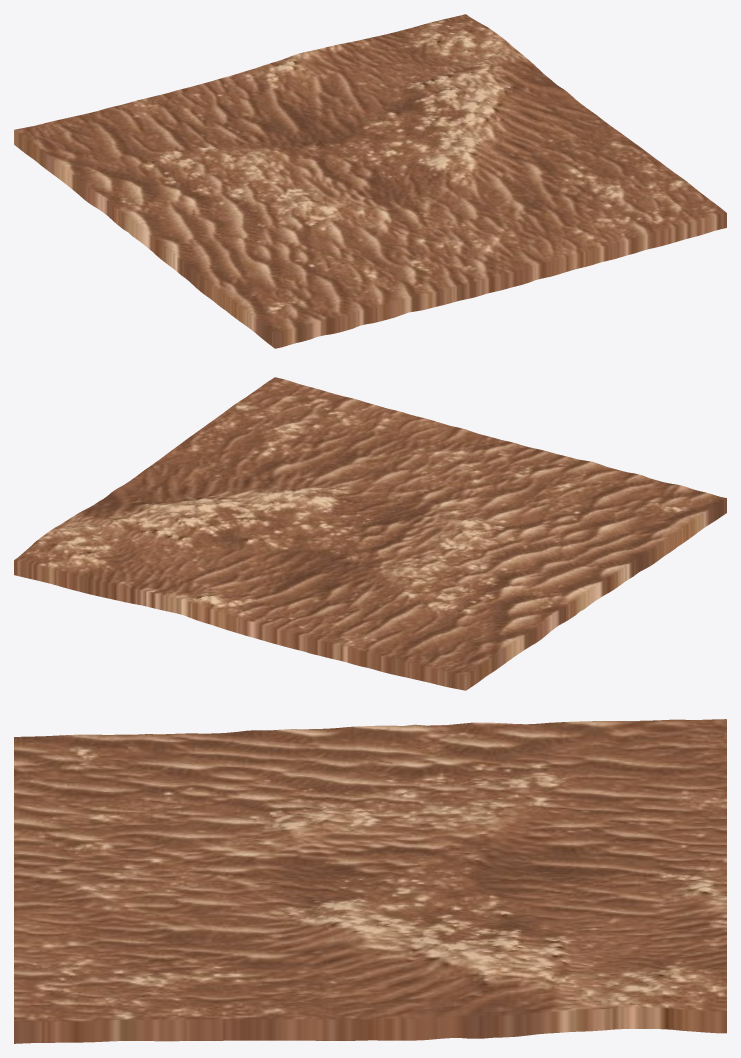
3 renders of one model, top to bottom at view 1: azimuth 30°, elevation 25°; view 2: azimuth 150°, elevation 25°; view 3: azimuth 270°, elevation 25°, orthographic. The views are drawn at different scales.
Parts seen in each view (by area): view 1: L6_31_29; view 2: L6_31_29; view 3: L6_31_29.
Boxes of the visible parts, box(x1,y1,x2,y2) form: L6_31_29: box(14, 14, 726, 348); L6_31_29: box(14, 377, 726, 690); L6_31_29: box(14, 719, 726, 1043).
Size of the model in its own units: 225 by 18.09 by 225.
1 material, 1 textured.
